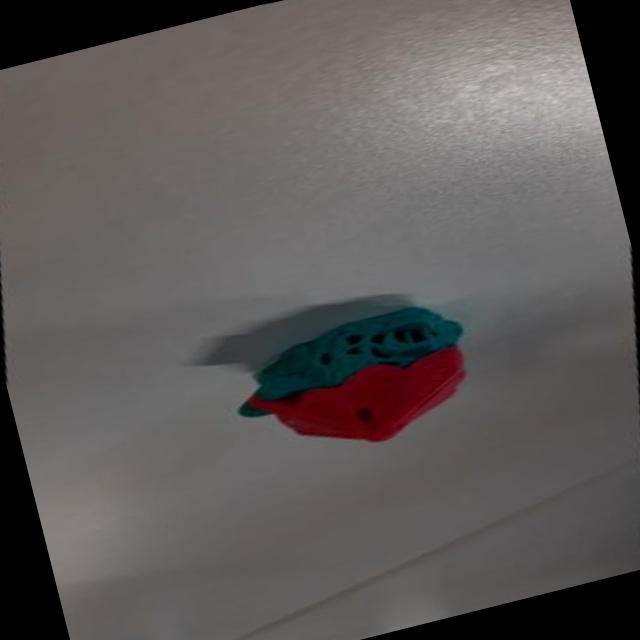House: (209, 281, 500, 482)
